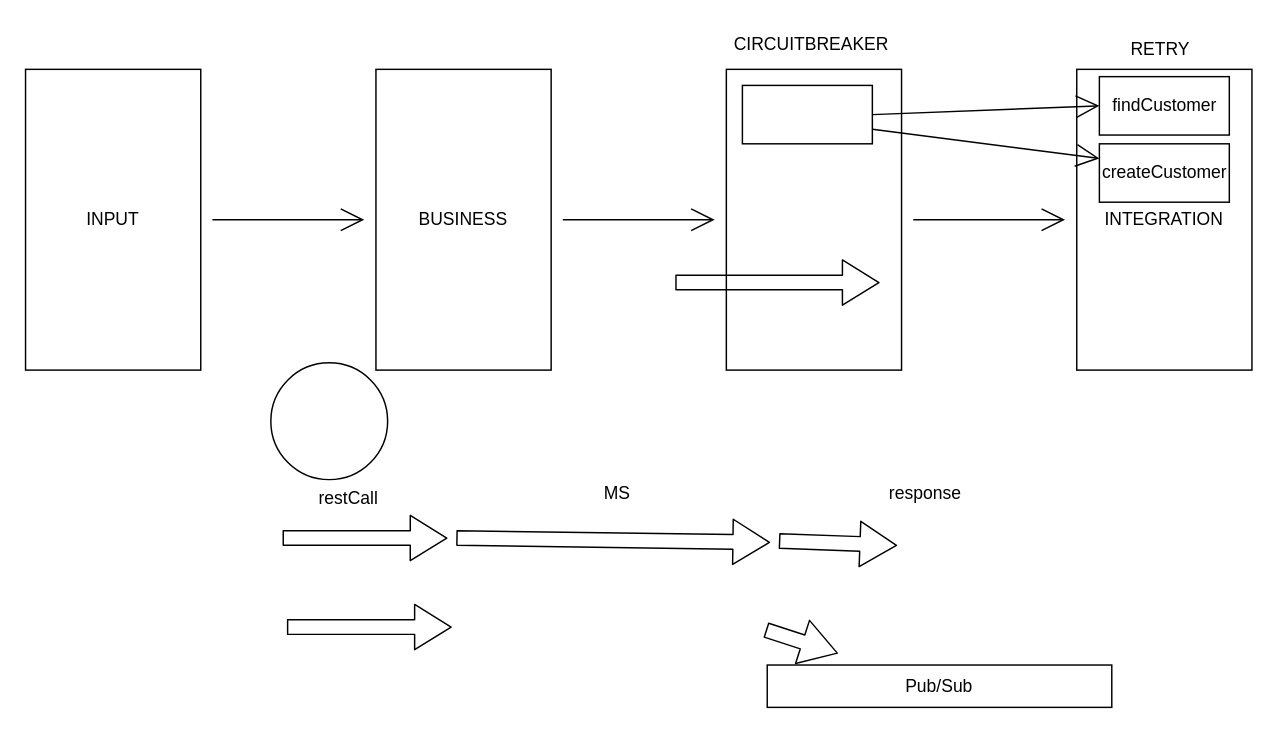
Some shapes in this 1278 by 733 pixel diagram are drawn without their labels. The box of each missing label's shape, as (x1, y1, x2, y2) in pixels:
check: (741, 84, 872, 144)
FACADE: (725, 68, 902, 370)
Th: (269, 361, 388, 480)
